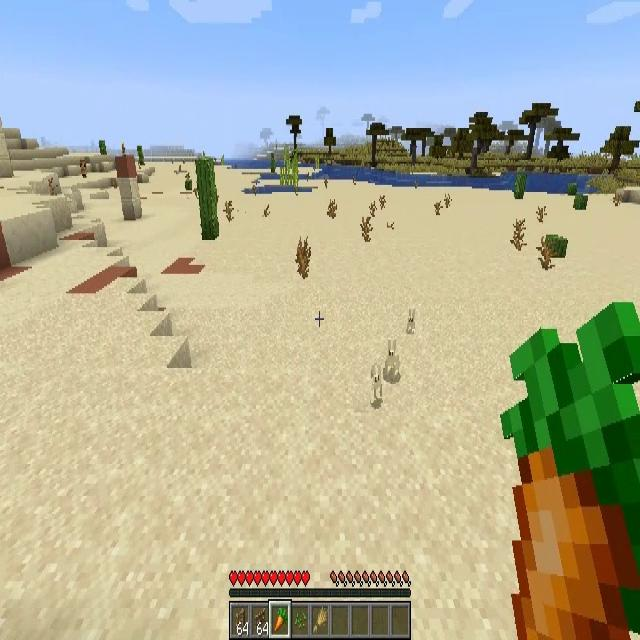rabbit: (383, 338, 401, 376), (371, 365, 383, 403), (403, 308, 417, 334)
